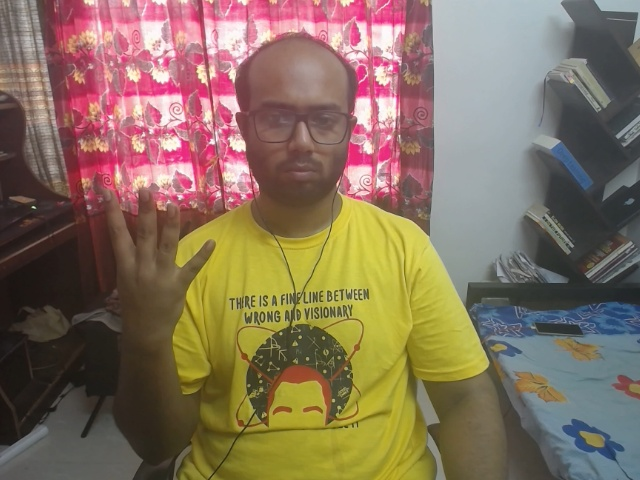four: (83, 173, 241, 357)
